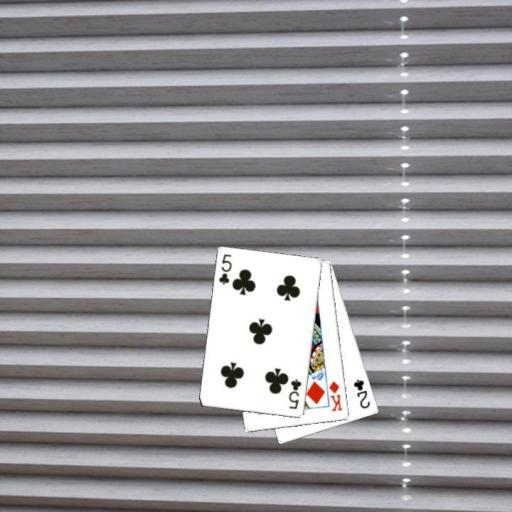2C: (350, 376, 372, 410)
5C: (216, 251, 234, 287), (286, 376, 303, 411)
KD: (326, 378, 344, 413)
